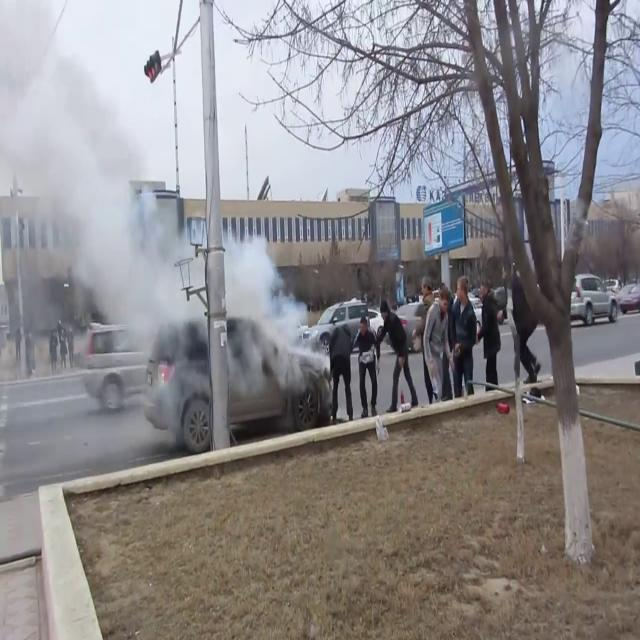Smoke: (0, 35, 314, 417)
